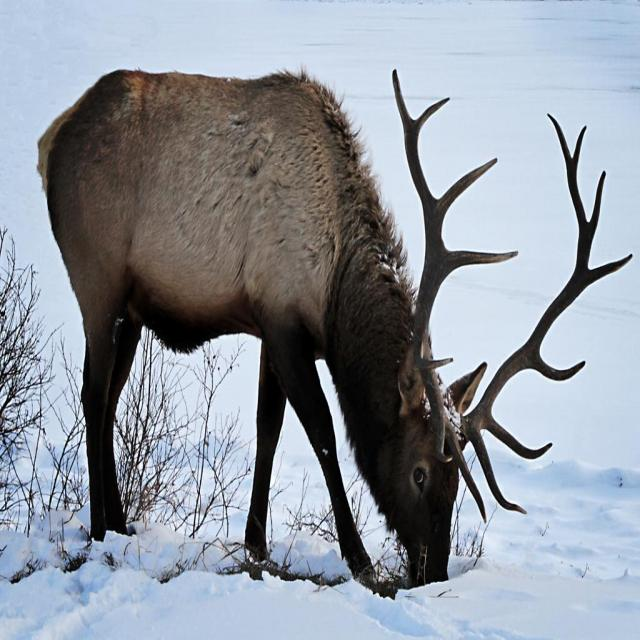Deer: (37, 67, 632, 599)
